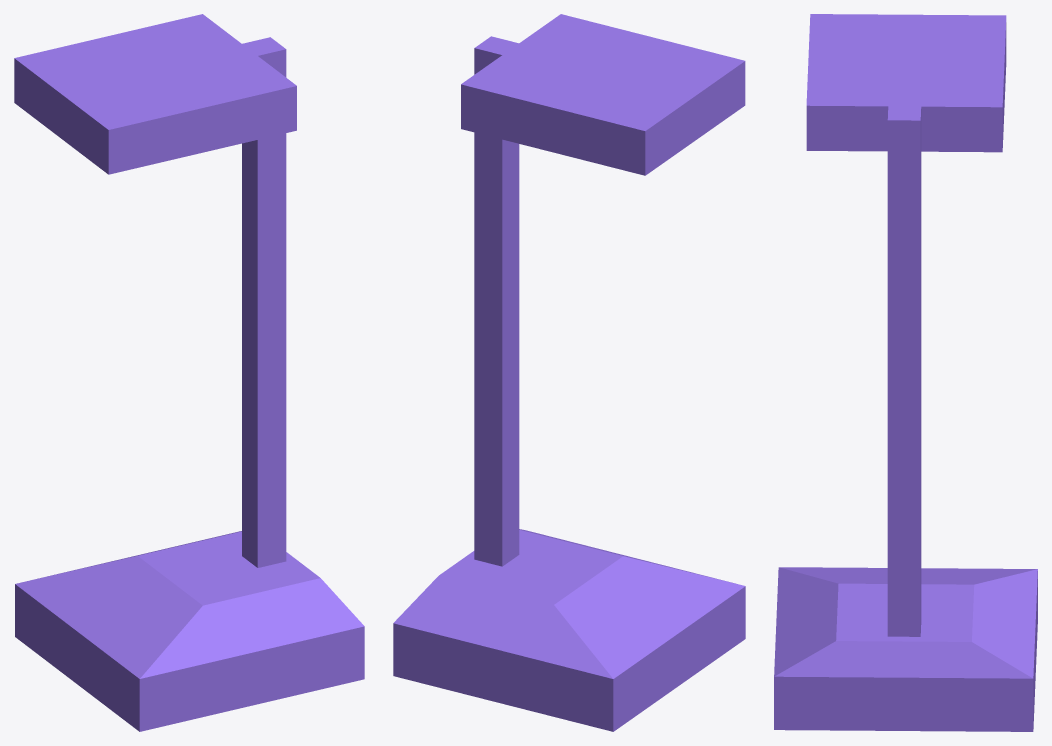
The model's file is Lamparita_WorkRoom.glb.
3 renders of one model, left to right at view 1: azimuth 30°, elevation 25°; view 2: azimuth 150°, elevation 25°; view 3: azimuth 270°, elevation 25°, orthographic.
Parts seen in each view (by area): view 1: Lamp_desk.001; view 2: Lamp_desk.001; view 3: Lamp_desk.001.
Boxes of the visible parts, bbox=[...] form: Lamp_desk.001: bbox=[14, 14, 364, 731]; Lamp_desk.001: bbox=[393, 14, 745, 731]; Lamp_desk.001: bbox=[774, 14, 1037, 731].
Bounding box in the file's own units: 0.163 × 0.3822 × 0.1526.
1 material, 1 textured.
